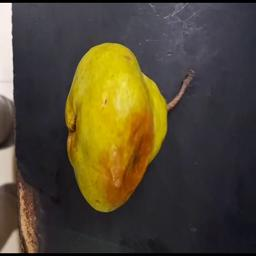Pear Rotten: (55, 38, 200, 216)
